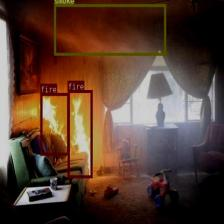fire: (68, 90, 92, 178), (40, 92, 68, 155)
smoke: (54, 4, 166, 55)
